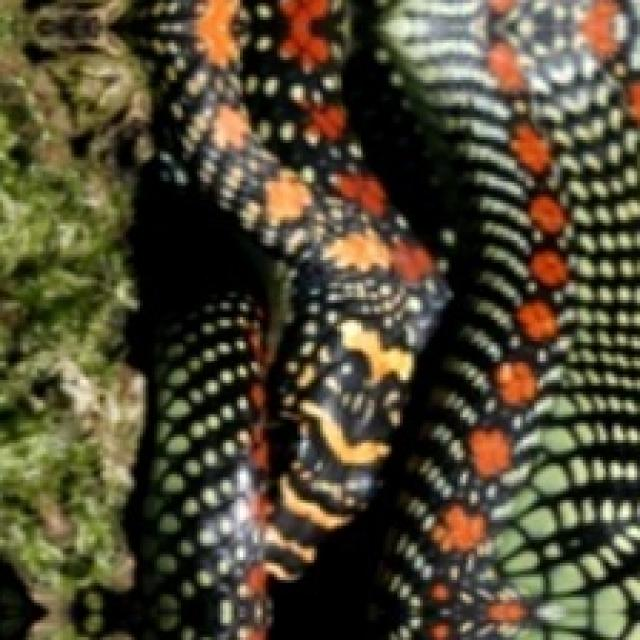paradise tree snake: (0, 0, 637, 637), (0, 0, 446, 637), (120, 171, 243, 374), (106, 174, 149, 594)
